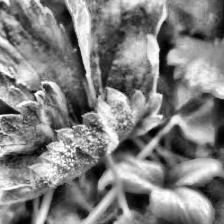Powdery Mildew Leaf: (0, 81, 145, 214), (0, 0, 95, 122)
